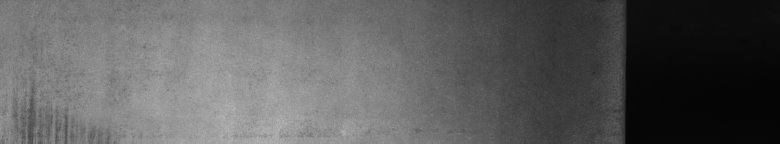ka: (4, 87, 75, 136)
